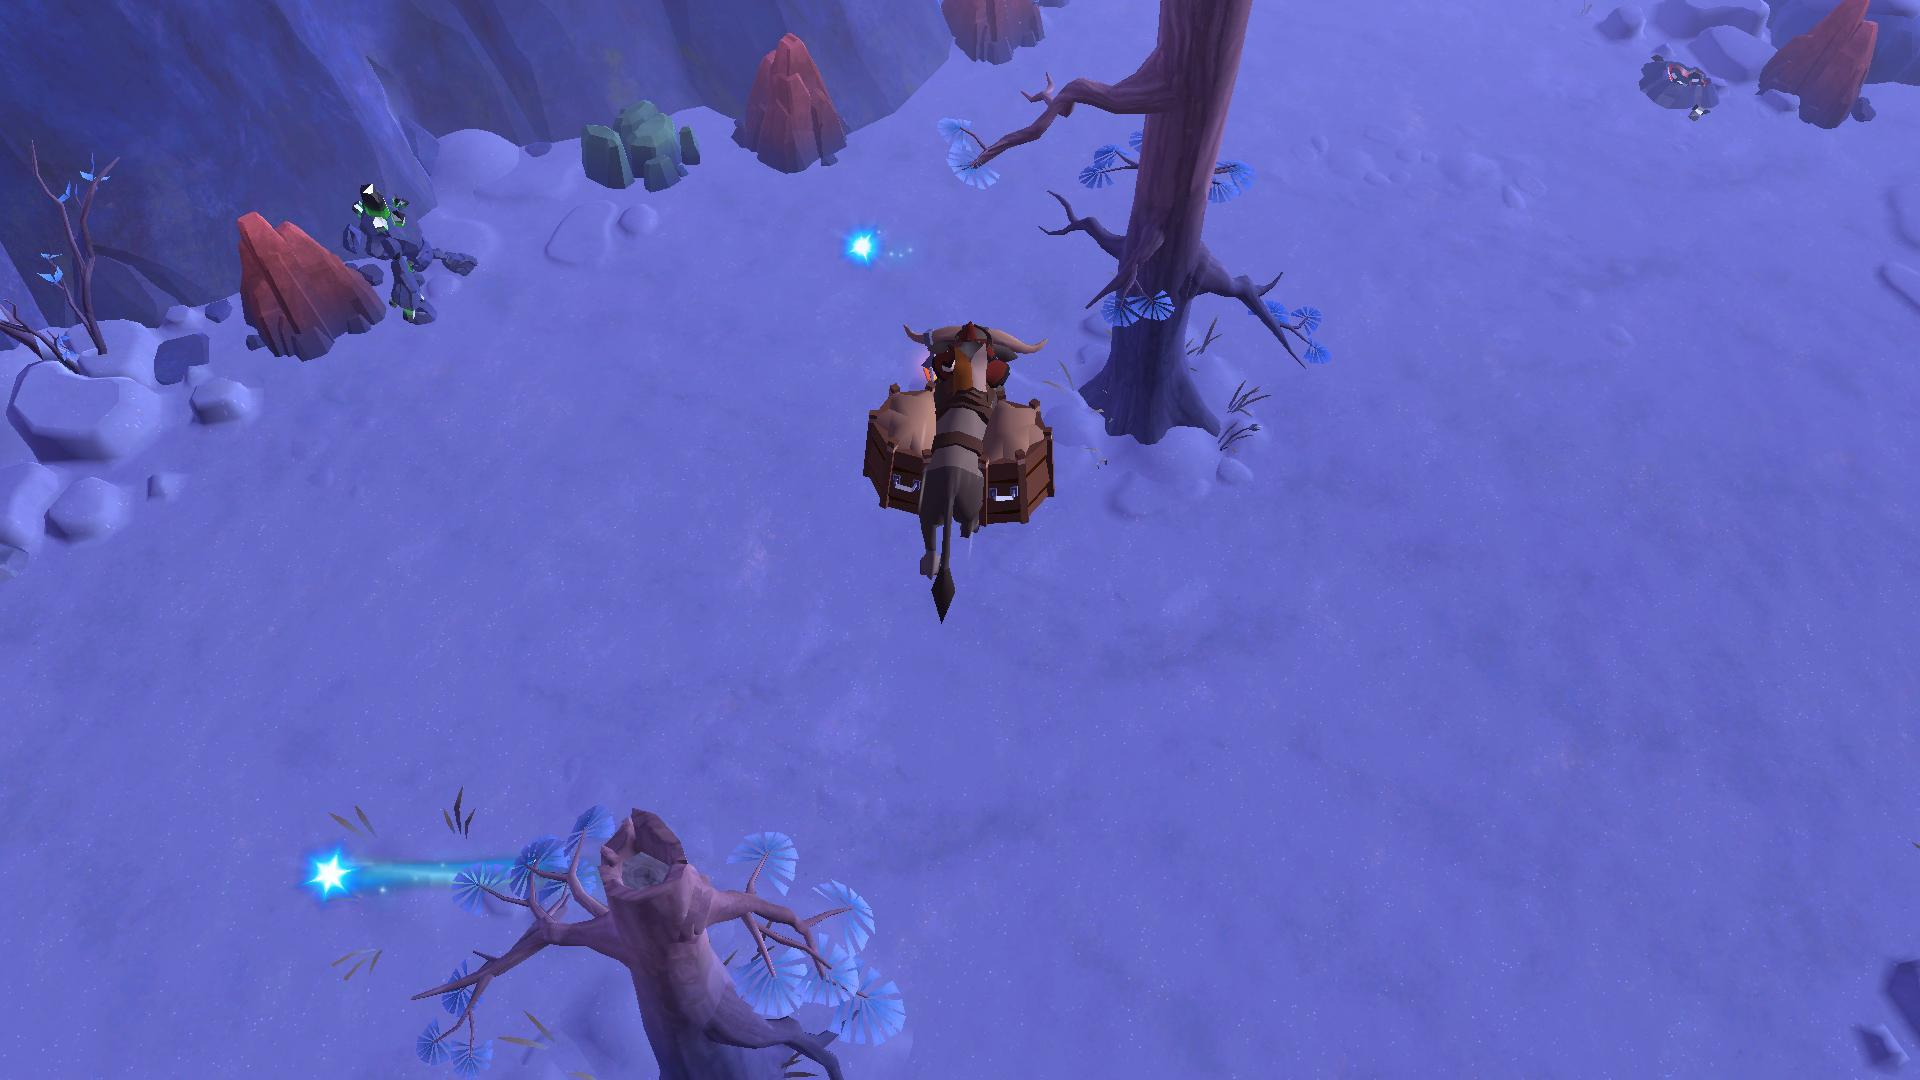rock_t3: (574, 105, 704, 193)
rock_t5: (236, 204, 381, 367), (1753, 0, 1895, 131), (738, 28, 848, 179), (935, 0, 1050, 59)
